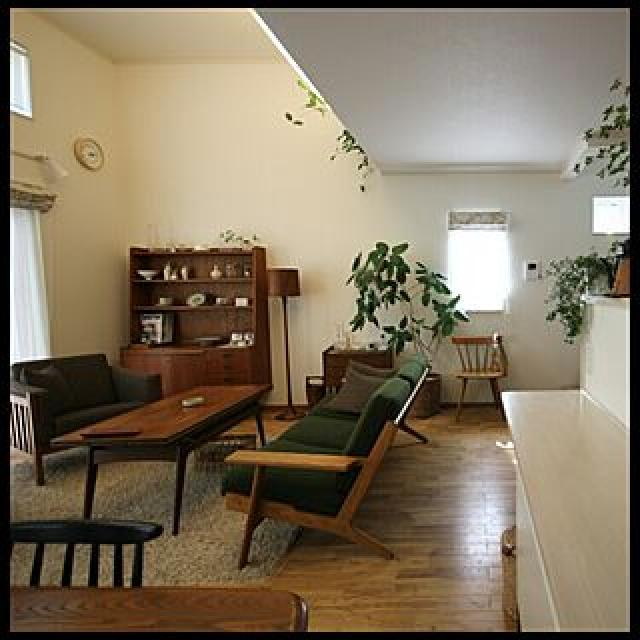vintage desk: (47, 361, 269, 538)
vintage sofa: (218, 337, 432, 572)
